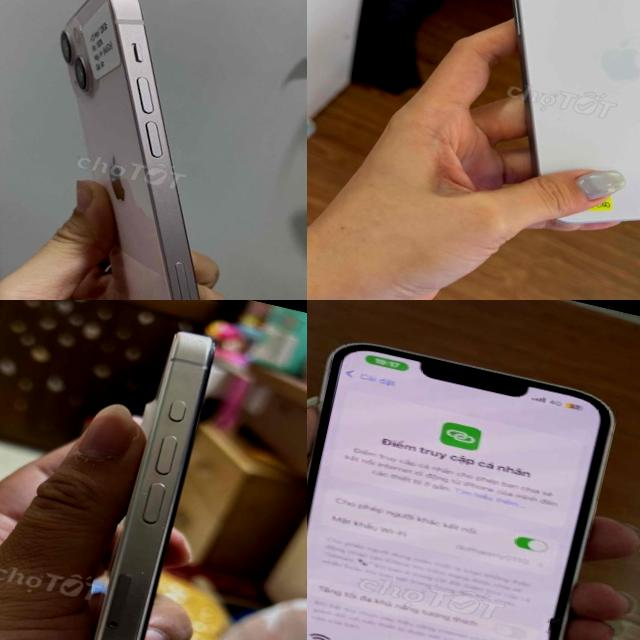gen_12_13: (307, 320, 640, 640), (0, 0, 297, 300)
gen_15: (0, 300, 277, 640), (407, 0, 640, 254)
scratch: (103, 562, 154, 640), (170, 326, 220, 351), (136, 484, 152, 497), (158, 520, 170, 532)
screen_defect: (529, 608, 570, 640)
